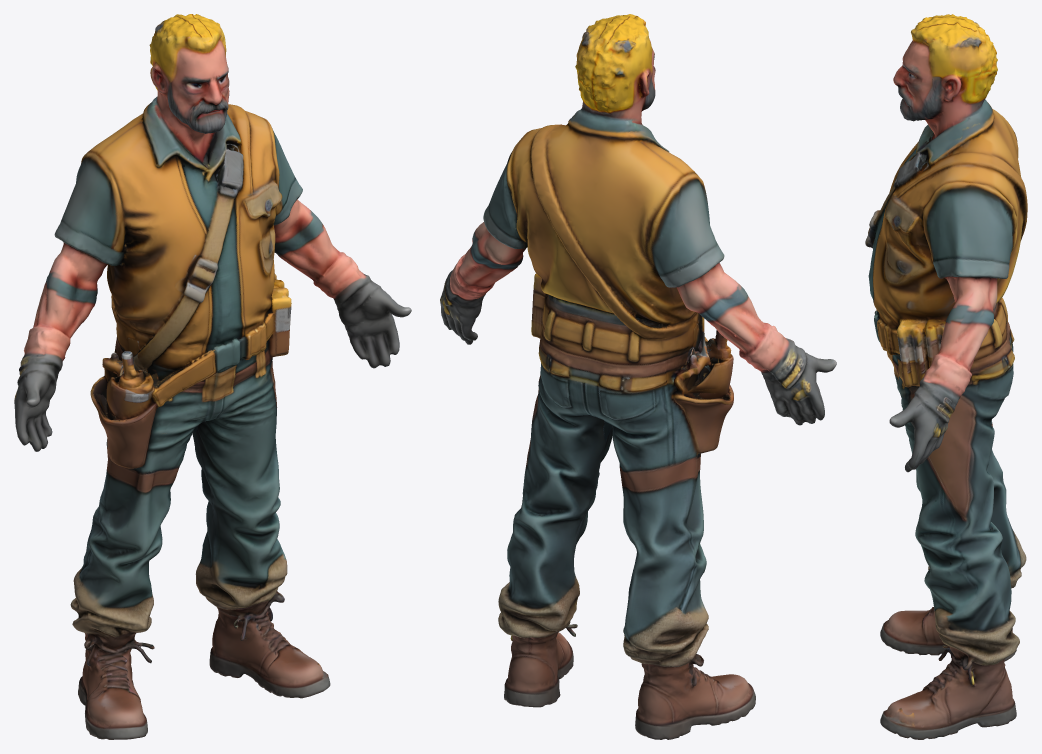
The model's file is create_a_person_who_w_1031123141_texture.fbx.
The picture shows the model from 3 angles, left to right: view 1: azimuth 30°, elevation 25°; view 2: azimuth 150°, elevation 25°; view 3: azimuth 270°, elevation 25°; orthographic projection.
Visible parts, largest first — view 1: Mesh_0.001; view 2: Mesh_0.001; view 3: Mesh_0.001.
Part boxes in pixels (x1,y1,x2,y2): Mesh_0.001: (14,14,411,739); Mesh_0.001: (440,14,836,739); Mesh_0.001: (865,14,1027,739).
Size of the model in its own units: 113 by 191 by 42.18.
Materials: 1 (1 with a texture image).
